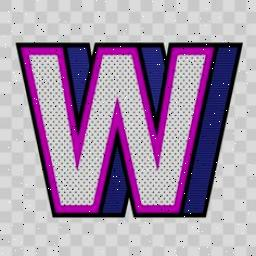w: (12, 30, 216, 216)
